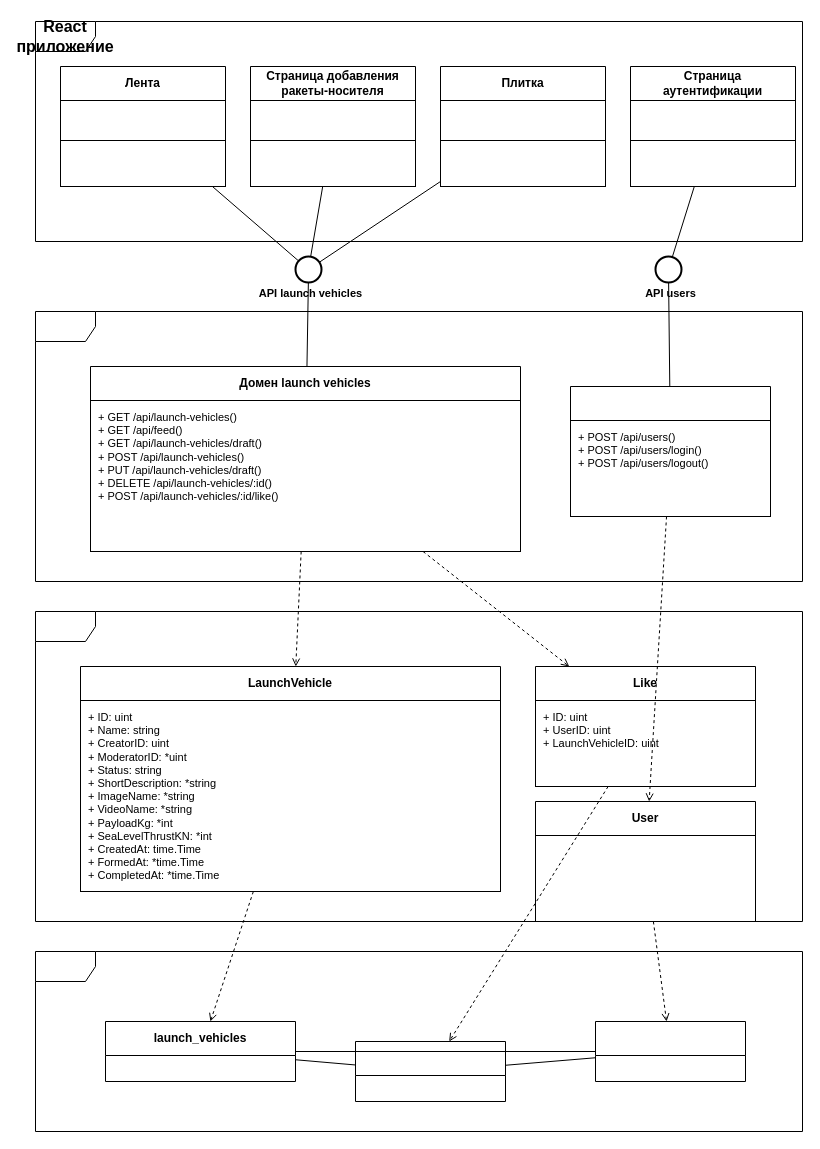
This 820x1149 diagram has some shape labels left out. Here are the shapes that lost their labels. From the top down, the box of each, then its label:
(34, 310, 802, 582): Бэкенд
(570, 386, 770, 516): Домен users
(34, 610, 802, 922): Модель
(534, 834, 756, 922): + ID: uint + Name: string + Email: string + Password: string
(34, 950, 802, 1132): База данных
(594, 1020, 746, 1082): users
(354, 1040, 506, 1102): likes
